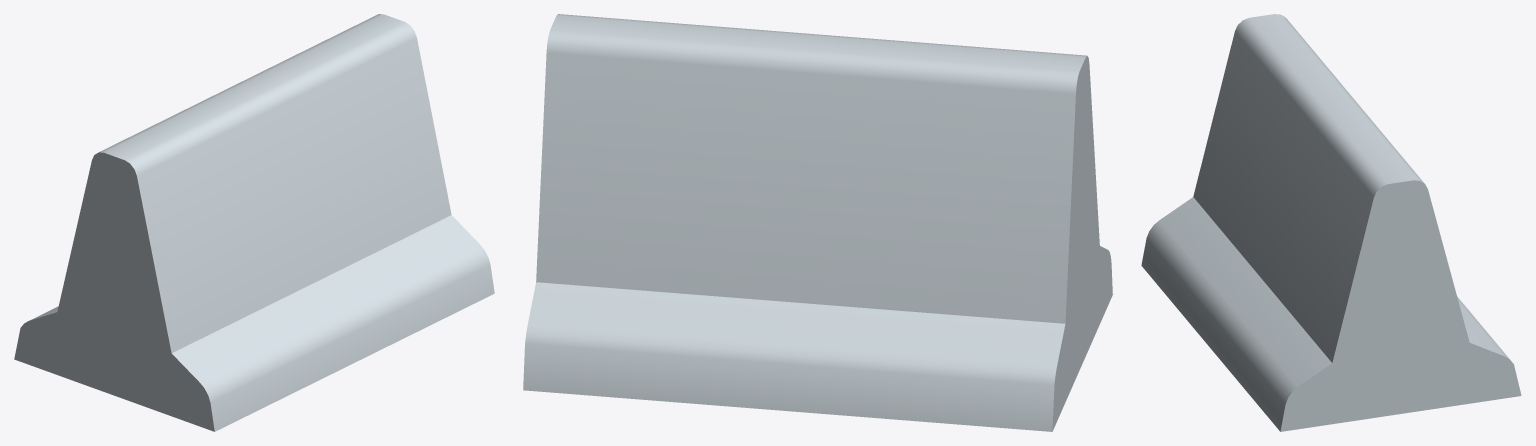
Rendered from Ormigon_01.fbx.
3 renders of one model, left to right at view 1: azimuth 30°, elevation 25°; view 2: azimuth 150°, elevation 25°; view 3: azimuth 270°, elevation 25°, orthographic. The views are drawn at different scales.
Visible parts, largest first — view 1: Ormigon_01; view 2: Ormigon_01; view 3: Ormigon_01.
Boxes of the visible parts, bbox=[...] form: Ormigon_01: bbox=[14, 14, 494, 431]; Ormigon_01: bbox=[523, 14, 1112, 431]; Ormigon_01: bbox=[1141, 14, 1521, 431].
Bounding box in the file's own units: 374 × 200 × 297.
